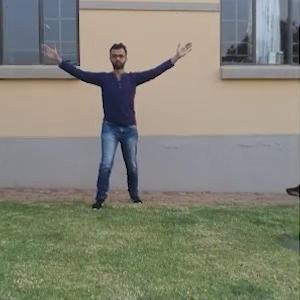takeoff: (32, 32, 191, 211)
